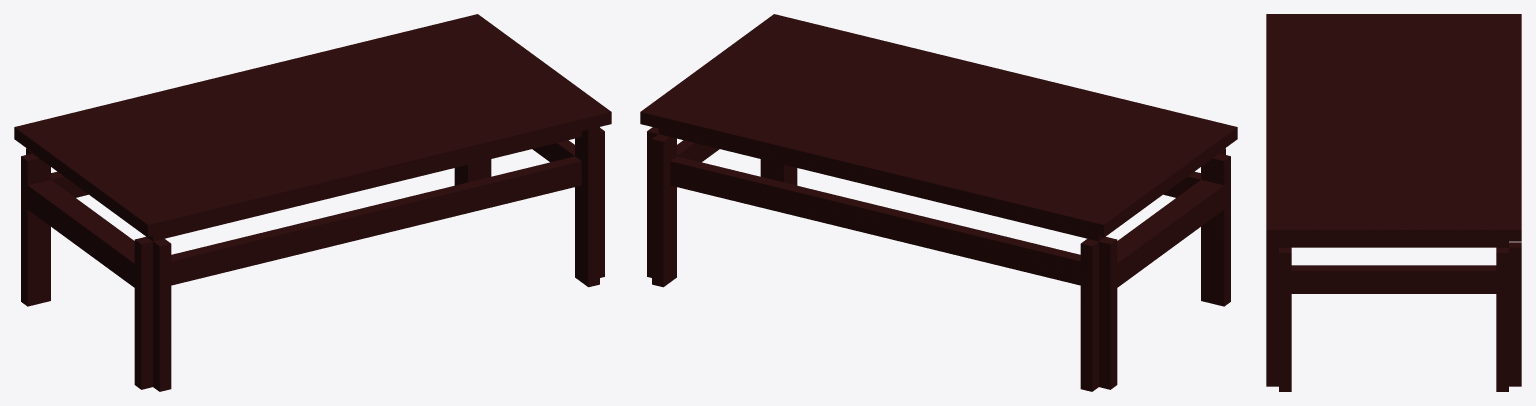
Rendered from table_2.obj.
3 renders of one model, left to right at view 1: azimuth 30°, elevation 25°; view 2: azimuth 150°, elevation 25°; view 3: azimuth 270°, elevation 25°, orthographic. The views are drawn at different scales.
Size of the model in its own units: 4 by 1.4 by 2.
